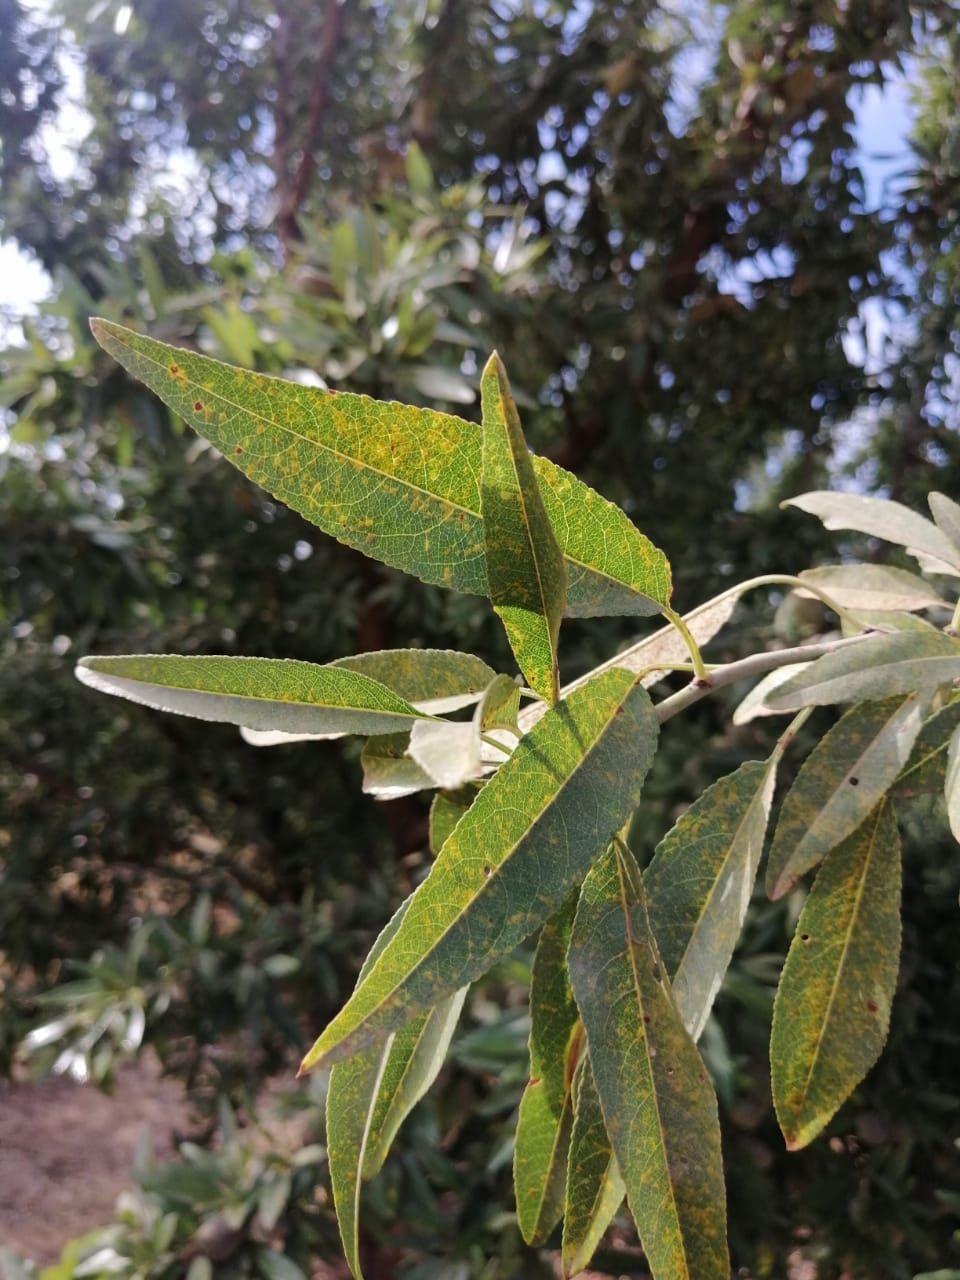rouille: (3, 753, 288, 1231), (498, 464, 902, 794), (596, 130, 869, 490), (730, 757, 960, 1084), (664, 749, 861, 1083), (3, 592, 379, 727), (124, 722, 265, 1035), (332, 618, 659, 730), (499, 822, 578, 1280), (338, 775, 544, 940), (409, 271, 583, 456), (3, 808, 121, 1072), (57, 421, 213, 614), (268, 727, 496, 827), (553, 757, 651, 942), (610, 696, 703, 835), (411, 175, 633, 223), (405, 204, 569, 265), (703, 427, 781, 529)
